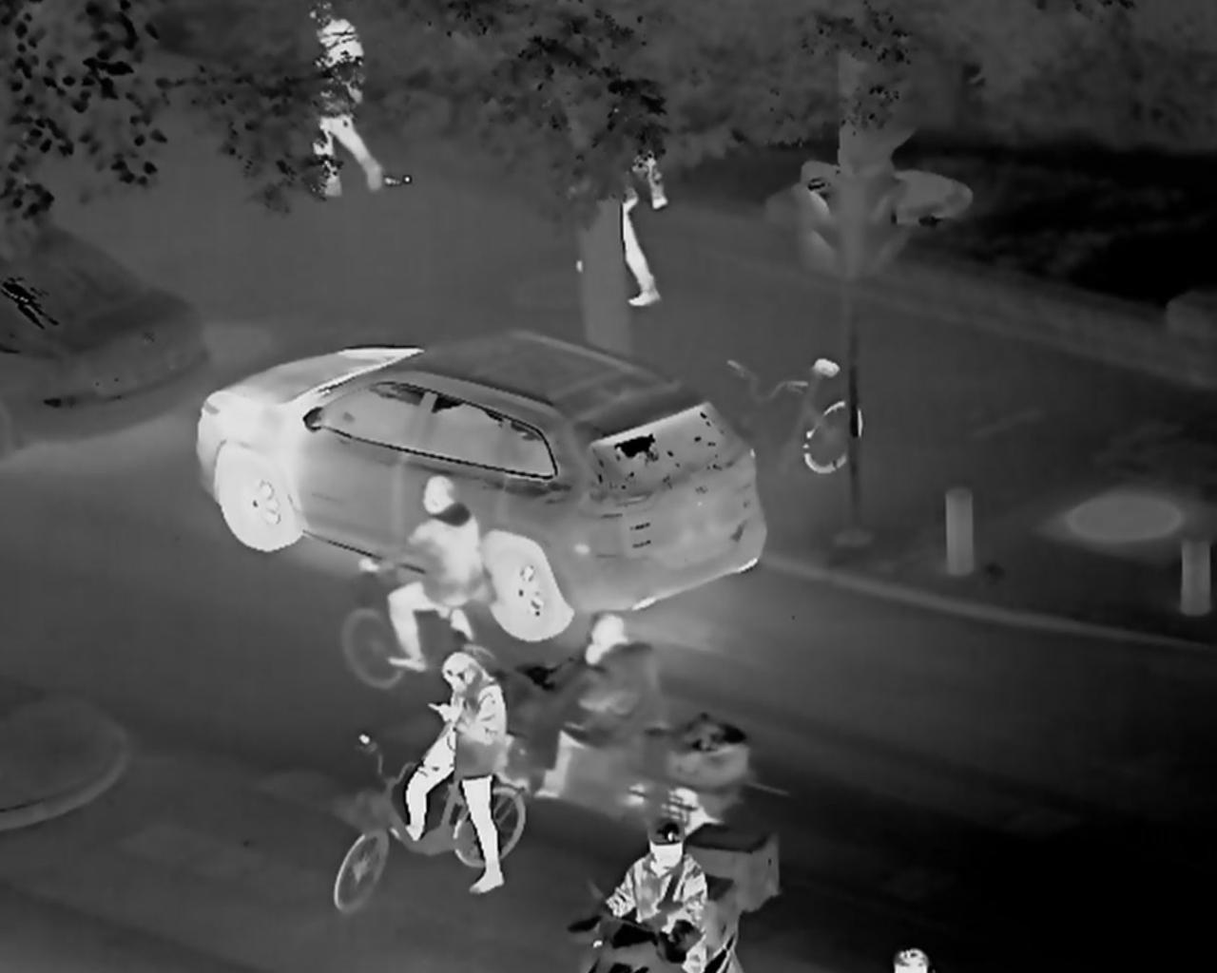person: (350, 474, 492, 678), (396, 651, 512, 895), (570, 64, 671, 310), (543, 614, 664, 819), (585, 812, 706, 973)
